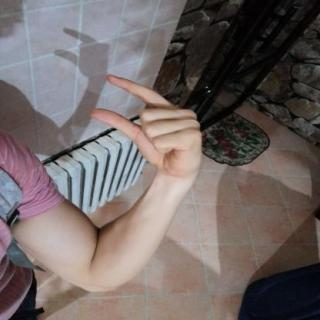DELL: (78, 68, 212, 182)
